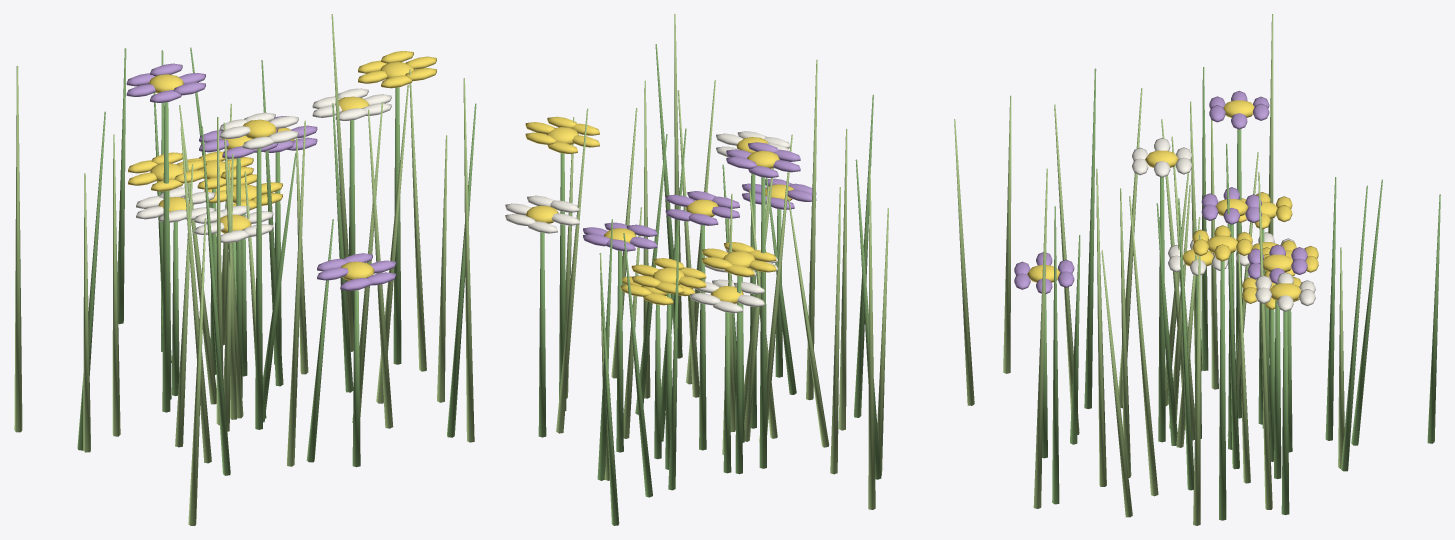
The model's file is wildflower_patch_a.glb.
The picture shows the model from 3 angles, left to right: view 1: azimuth 30°, elevation 25°; view 2: azimuth 150°, elevation 25°; view 3: azimuth 270°, elevation 25°; orthographic projection. The views are drawn at different scales.
Visible parts, largest first — view 1: flower_11_stem, blade_5, blade_11, flower_6_stem, blade_12, blade_22, blade_14, blade_15, blade_13, blade_16, flower_1_stem, blade_1 (+29 smaller); view 2: blade_5, flower_11_stem, blade_17, blade_22, blade_1, blade_12, blade_13, blade_14, blade_0, flower_3_stem, flower_5_stem, blade_3 (+29 smaller); view 3: blade_12, blade_11, flower_1_stem, blade_16, blade_17, blade_10, blade_9, flower_6_stem, blade_2, blade_15, blade_18, blade_24 (+29 smaller).
Boxes of the visible parts, x1=… form: flower_11_stem: x1=162, y1=102, x2=170, y2=412; blade_5: x1=14, y1=66, x2=22, y2=432; blade_11: x1=463, y1=78, x2=474, y2=442; flower_6_stem: x1=255, y1=148, x2=262, y2=429; blade_12: x1=201, y1=126, x2=230, y2=475; blade_22: x1=287, y1=120, x2=305, y2=466; blade_14: x1=188, y1=218, x2=206, y2=525; blade_15: x1=447, y1=103, x2=476, y2=437; blade_13: x1=112, y1=134, x2=120, y2=436; blade_16: x1=368, y1=109, x2=393, y2=428; flower_1_stem: x1=393, y1=87, x2=401, y2=364; blade_1: x1=180, y1=126, x2=211, y2=463; blade_5: x1=868, y1=167, x2=875, y2=509; flower_11_stem: x1=759, y1=177, x2=766, y2=468; blade_17: x1=556, y1=108, x2=588, y2=433; blade_22: x1=806, y1=60, x2=817, y2=400; blade_1: x1=838, y1=129, x2=847, y2=430; blade_12: x1=854, y1=94, x2=873, y2=417; blade_13: x1=830, y1=187, x2=840, y2=474; blade_14: x1=954, y1=119, x2=974, y2=405; blade_0: x1=623, y1=233, x2=652, y2=497; flower_3_stem: x1=538, y1=232, x2=546, y2=437; flower_5_stem: x1=616, y1=250, x2=623, y2=452; blade_3: x1=600, y1=273, x2=619, y2=525; blade_12: x1=1084, y1=68, x2=1096, y2=408; blade_11: x1=1033, y1=168, x2=1047, y2=508; flower_1_stem: x1=1219, y1=261, x2=1226, y2=520; blade_16: x1=1096, y1=169, x2=1106, y2=486; blade_17: x1=1258, y1=172, x2=1272, y2=509; blade_10: x1=1129, y1=196, x2=1158, y2=496; blade_9: x1=1226, y1=143, x2=1239, y2=469; flower_6_stem: x1=1158, y1=177, x2=1165, y2=442; blade_2: x1=1193, y1=234, x2=1200, y2=525; blade_15: x1=1052, y1=206, x2=1059, y2=504; blade_18: x1=1178, y1=198, x2=1194, y2=490; blade_24: x1=1341, y1=185, x2=1367, y2=471.
Bounding box in the file's own units: 0.5988 × 0.525 × 0.6076.
